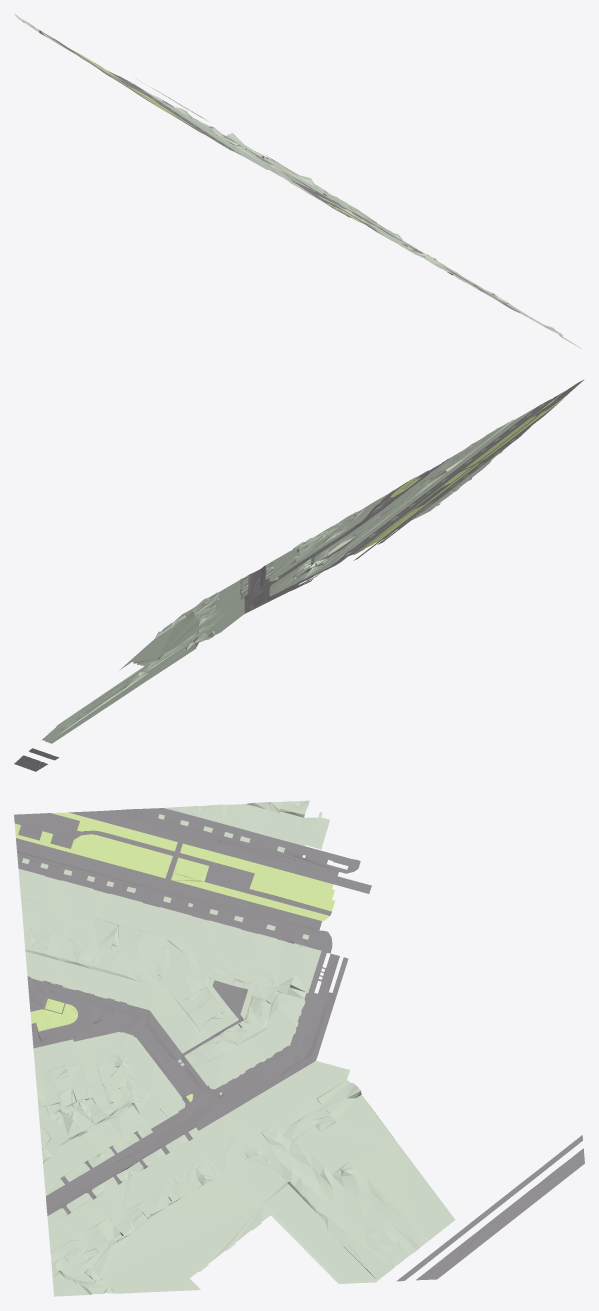
The picture shows the model from 3 angles, top to bottom: view 1: azimuth 30°, elevation 25°; view 2: azimuth 150°, elevation 25°; view 3: azimuth 270°, elevation 25°; orthographic projection. The views are drawn at different scales.
Bounding box in the file's own units: 207 × 156 × 263.
